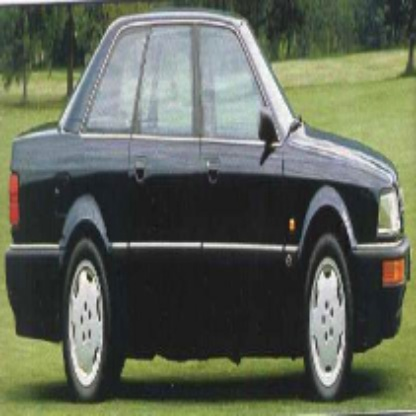Vehicle: (8, 10, 414, 408)
